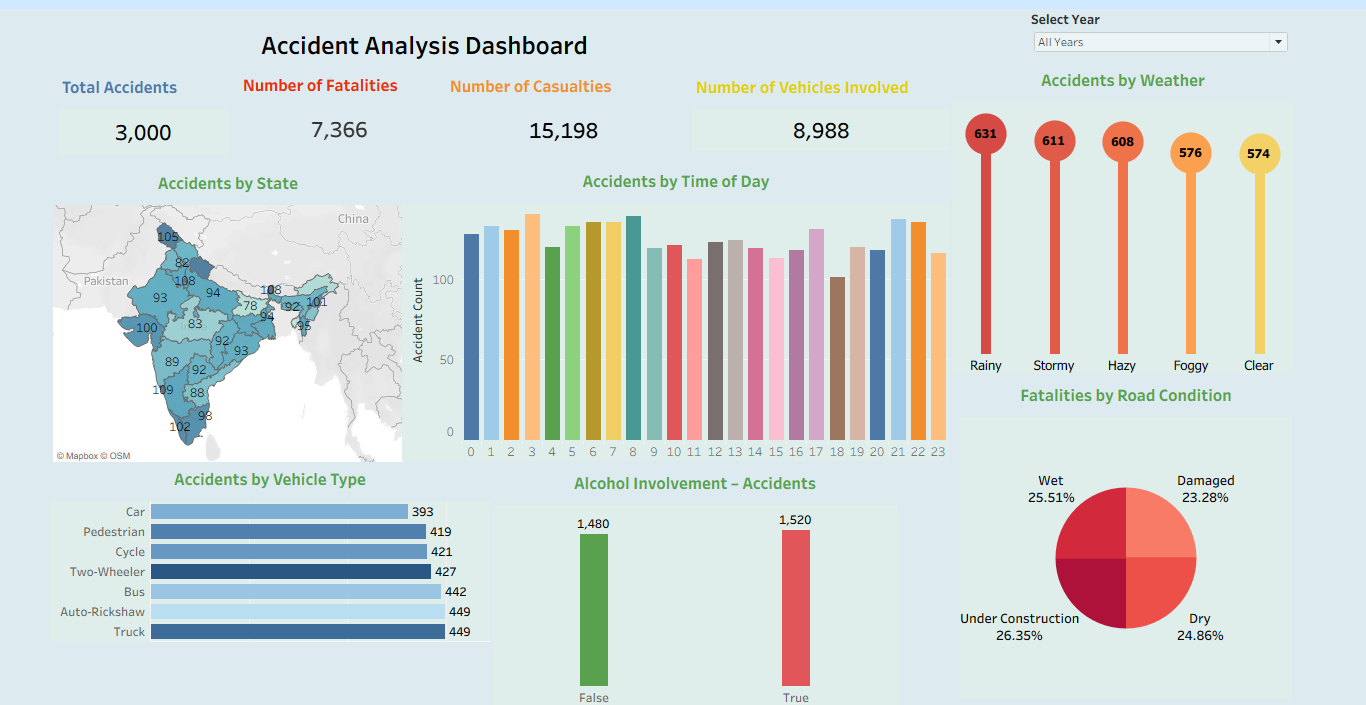

This screenshot's page, from the dashboard's own definition file:
{"tool":"tableau","page":{"name":"Dashboard 1","canvas":[1000,1000],"units":"permille","ordinal":0},"visuals":[{"type":"parameter","param":"[Parameters].[Parameter 2]","box":[777.5,1.9,206.9,89]},{"type":"text","box":[6.9,15.2,986.1,76.7]},{"type":"worksheet","title":"Accidents by Weather","mark":"Bar","rows":["Calculation_0122631105867776","Calculation_0122631105867776"],"cols":["Weather Conditions"],"box":[714.7,80.7,272.5,442.2]},{"type":"worksheet","title":"Number of Fatalities","mark":"Automatic","box":[146.3,87.1,161,119.3]},{"type":"worksheet","title":"Number of Casualties","mark":"Automatic","box":[311.7,89,188.7,115.5]},{"type":"worksheet","title":"Total Accidents","mark":"Text","box":[2.6,90.9,135.9,119.3]},{"type":"worksheet","title":"Number of Vehicles Involved","mark":"Automatic","box":[507.4,90.9,206.1,113.6]},{"type":"text","box":[6.9,91.9,986.1,893]},{"type":"worksheet","title":"Accidents by Time of Day","mark":"Bar","rows":["Calculation_0122631105867776"],"cols":["Time of Day"],"box":[276.2,225.4,436.4,422.4]},{"type":"worksheet","title":"Fatalities by Road Condition","mark":"Pie","box":[721.2,532.2,264.9,456.4]},{"type":"worksheet","title":"Alcohol Involvement – Accidents","mark":"Bar","rows":["Calculation_0122631105867776"],"cols":["Alcohol Involvement"],"box":[348.9,657.2,322.1,342.8]}]}

Visuals, with their boxes on the dashboard's canvas, which has no fixed pixel size, in thousandths of its width and height (x1, y1, x2, y2). These are canvas units, not pixel positions in the 1366x705 screenshot, which may show the page scaled, cropped or inside an application window:
parameter: crop(778, 2, 984, 91)
text: crop(7, 15, 993, 92)
"Accidents by Weather" worksheet (Bar marks): crop(715, 81, 987, 523)
"Number of Fatalities" worksheet: crop(146, 87, 307, 206)
"Number of Casualties" worksheet: crop(312, 89, 500, 204)
"Total Accidents" worksheet (Text marks): crop(3, 91, 138, 210)
"Number of Vehicles Involved" worksheet: crop(507, 91, 714, 204)
text: crop(7, 92, 993, 985)
"Accidents by Time of Day" worksheet (Bar marks): crop(276, 225, 713, 648)
"Fatalities by Road Condition" worksheet (Pie marks): crop(721, 532, 986, 989)
"Alcohol Involvement – Accidents" worksheet (Bar marks): crop(349, 657, 671, 1000)
